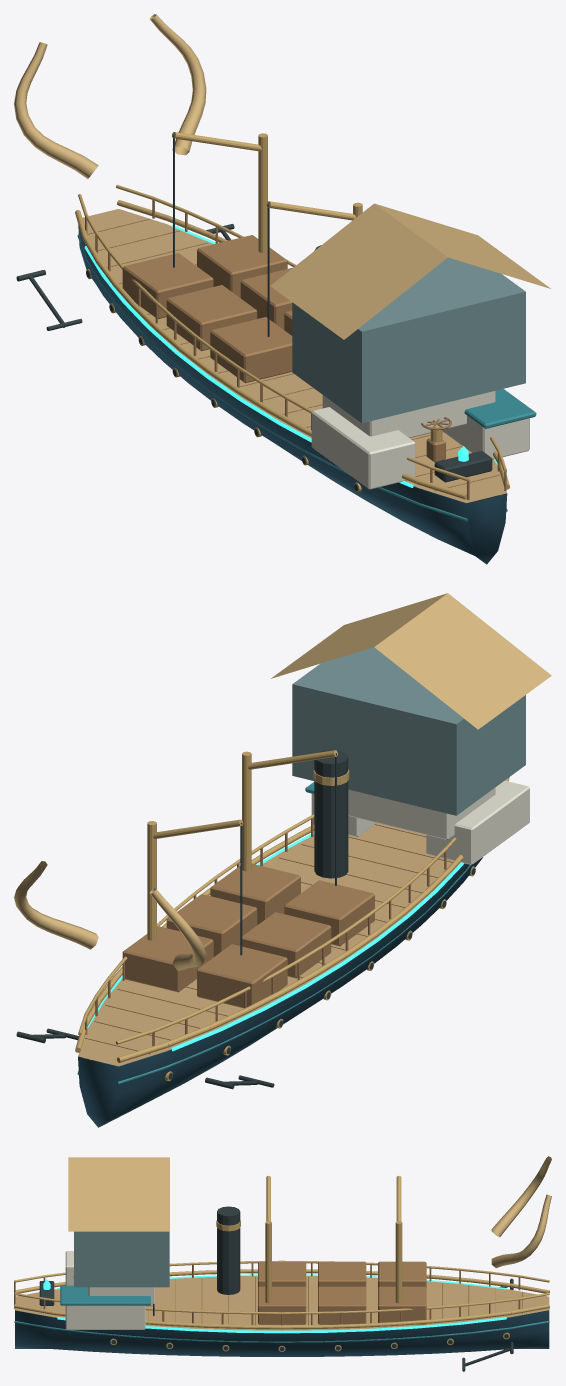
File: ship_freighter.glb
3 views of the same model, one above another, from view 1: azimuth 30°, elevation 25°; view 2: azimuth 150°, elevation 25°; view 3: azimuth 270°, elevation 25° (orthographic). The views are drawn at different scales.
Visible parts, largest first — view 1: ship_freighter; view 2: ship_freighter; view 3: ship_freighter.
Boxes of the visible parts, x1=… form: ship_freighter: x1=14, y1=14, x2=550, y2=564; ship_freighter: x1=14, y1=593, x2=551, y2=1127; ship_freighter: x1=14, y1=1156, x2=551, y2=1371.
Bounding box in the file's own units: 5.36 × 6.33 × 16.11.
